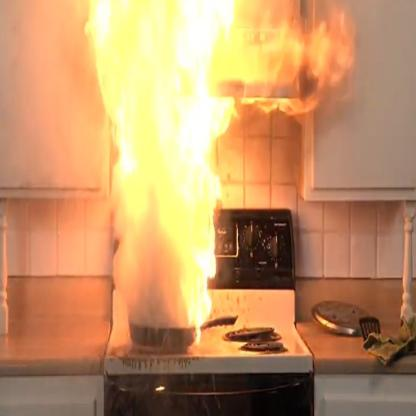fire: (79, 6, 362, 318)
smoke: (112, 180, 191, 352)
